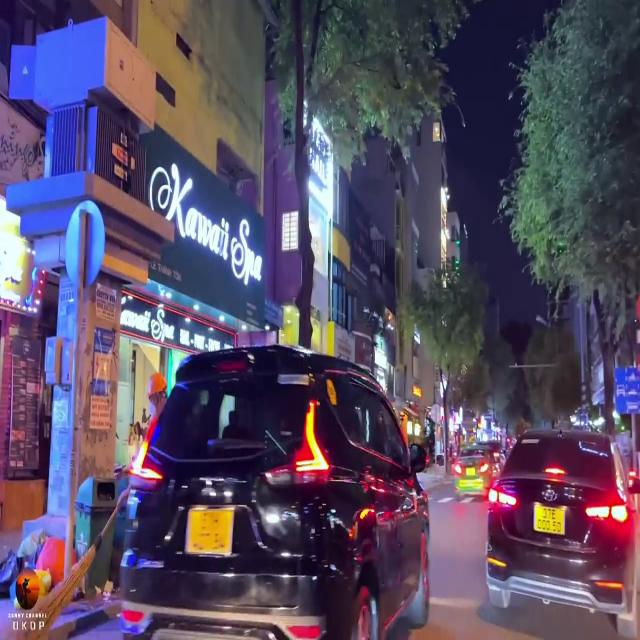bien_vang: (186, 506, 232, 556), (532, 501, 565, 536)
